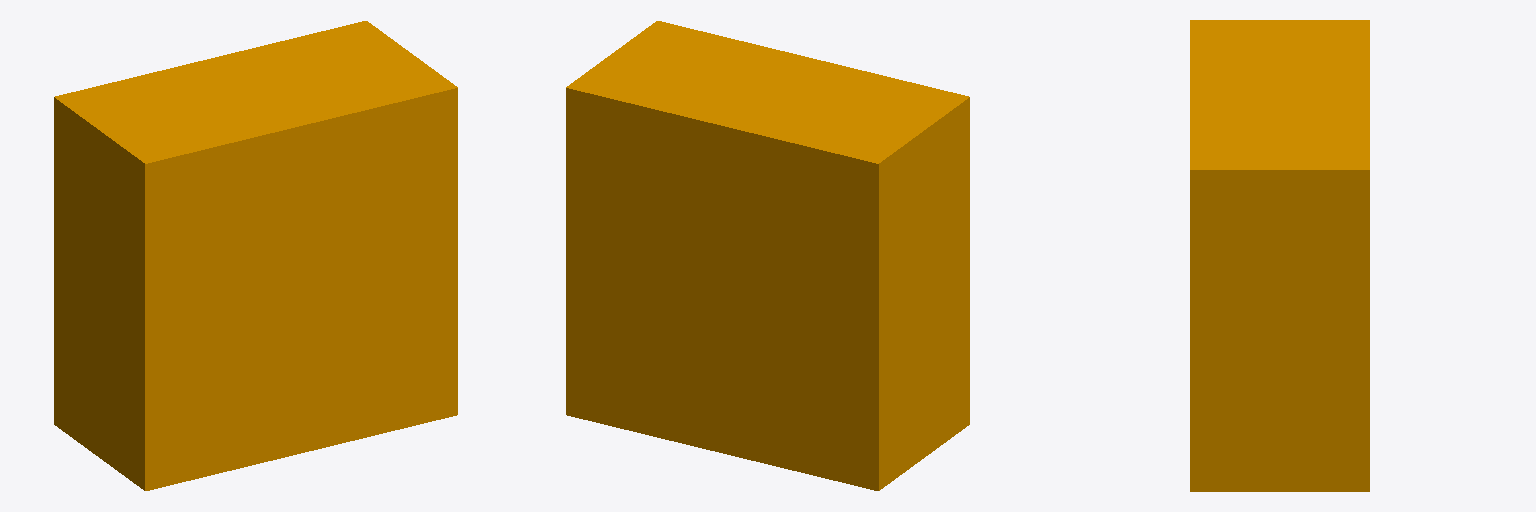
The robot description file, URDF, robot "2_2B_1":
<robot name="2_2B_1">
  <link name="link">
    <visual>
      <geometry>
        <mesh filename="2_2B_1.obj" scale="1 1 1"/>
      </geometry>
    </visual>
    <collision>
      <geometry>
        <mesh filename="2_2B_1.obj" scale="1 1 1"/>
      </geometry>
    </collision>
    <inertial>
      <mass value="1"/>
      <inertia ixx="1" iyy="1" izz="1" ixy="0" ixz="0" iyz="0"/>
      <origin xyz="0 0 0" rpy="0 0 0"/>
    </inertial>
  </link>
</robot>

--- What the picture shows (computed from the rendered views, not written in the file) ---
Views: 3 orthographic renders of the robot side by side, from view 1: azimuth 30°, elevation 25°; view 2: azimuth 150°, elevation 25°; view 3: azimuth 270°, elevation 25°.
Robot: 2_2B_1 — 1 links, 0 joints (none); root link link; default pose: every joint at zero.
Visible links, largest first — view 1: link; view 2: link; view 3: link.
Boxes of the visible links, x1,y1,x2,y2 form: link: [54, 21, 457, 490]; link: [566, 21, 969, 490]; link: [1190, 20, 1369, 491].
Bounding box of the posed robot: 0.1178 × 0.0598 × 0.1178 m (x, y, z).
1 mesh visuals loaded from 1 distinct referenced files (1 OBJ).